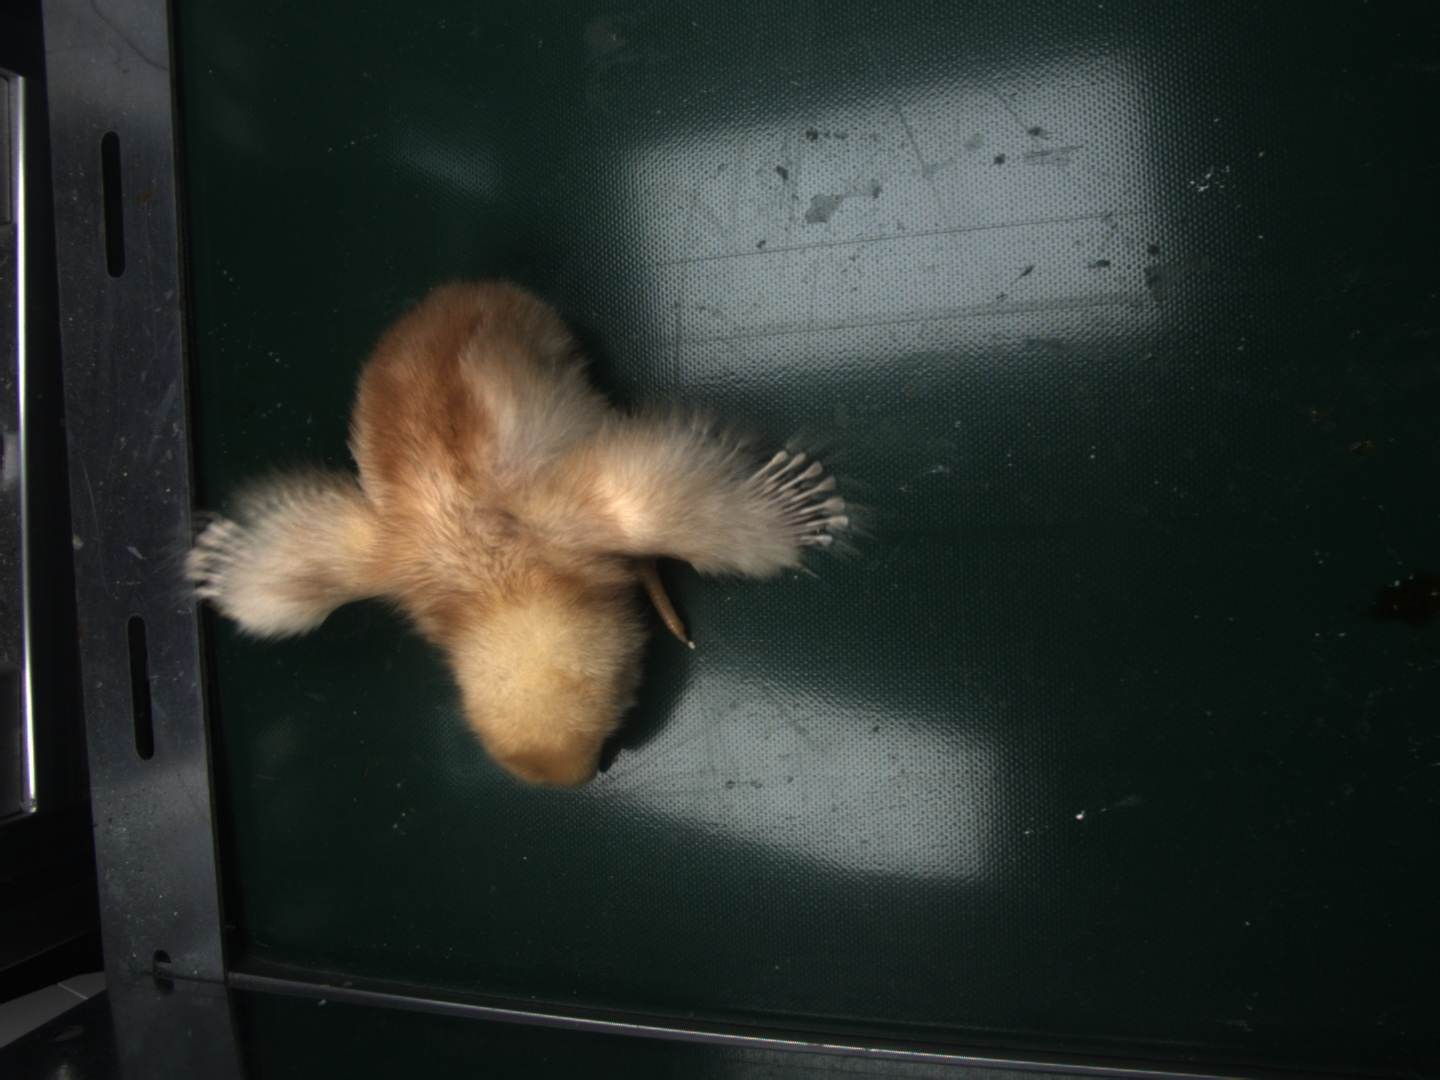female: (751, 448, 846, 547)
